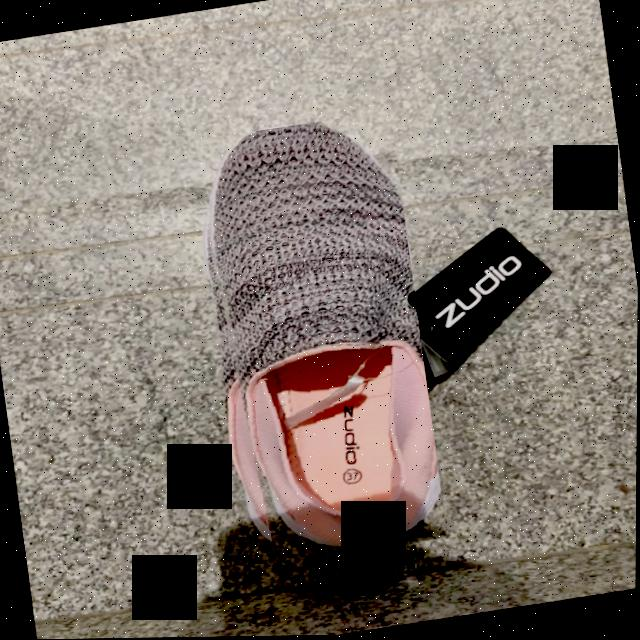shoe: (210, 124, 440, 554)
